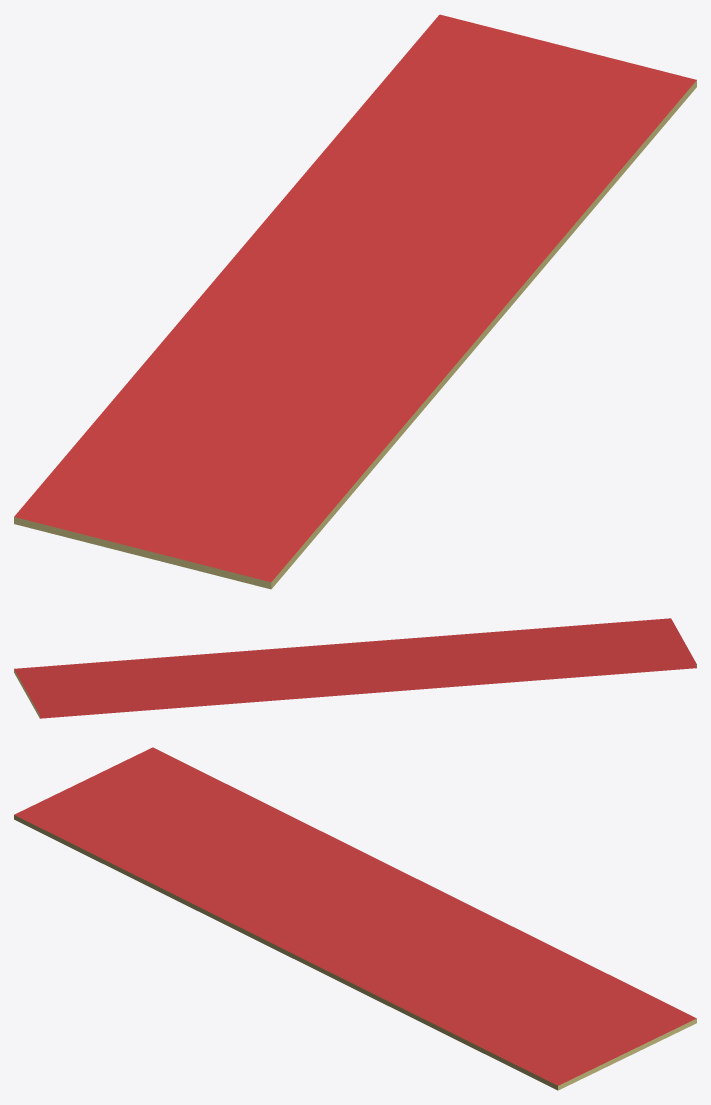
The picture shows the model from 3 angles, top to bottom: view 1: azimuth 30°, elevation 25°; view 2: azimuth 150°, elevation 25°; view 3: azimuth 270°, elevation 25°; orthographic projection. The views are drawn at different scales.
Size of the model in its own units: 14.43 by 12.98 by 0.471.
